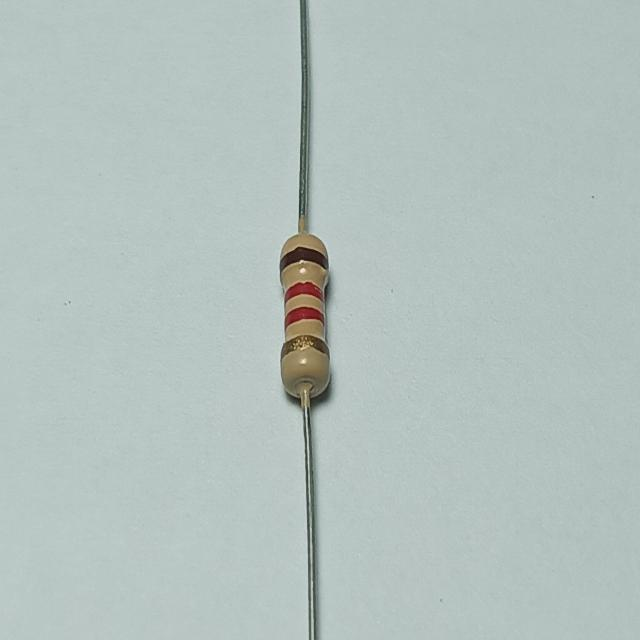1.2k ohms: (266, 220, 344, 418)
